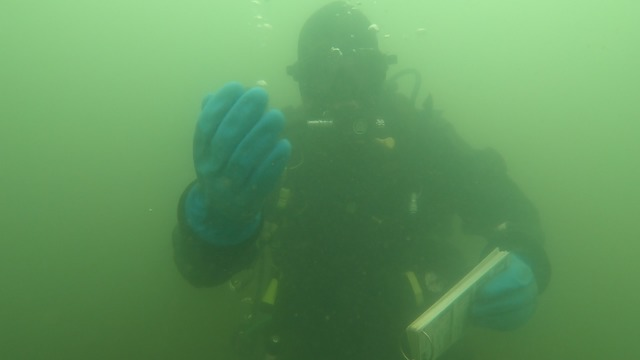Diver: (167, 2, 561, 358)
Hand: (175, 81, 295, 250), (465, 239, 548, 345)
Head: (282, 7, 407, 150)
